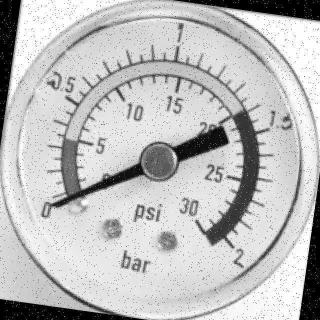gauge: (0, 0, 320, 320), (138, 140, 180, 182), (182, 210, 222, 250), (35, 186, 71, 224), (43, 196, 61, 211)
